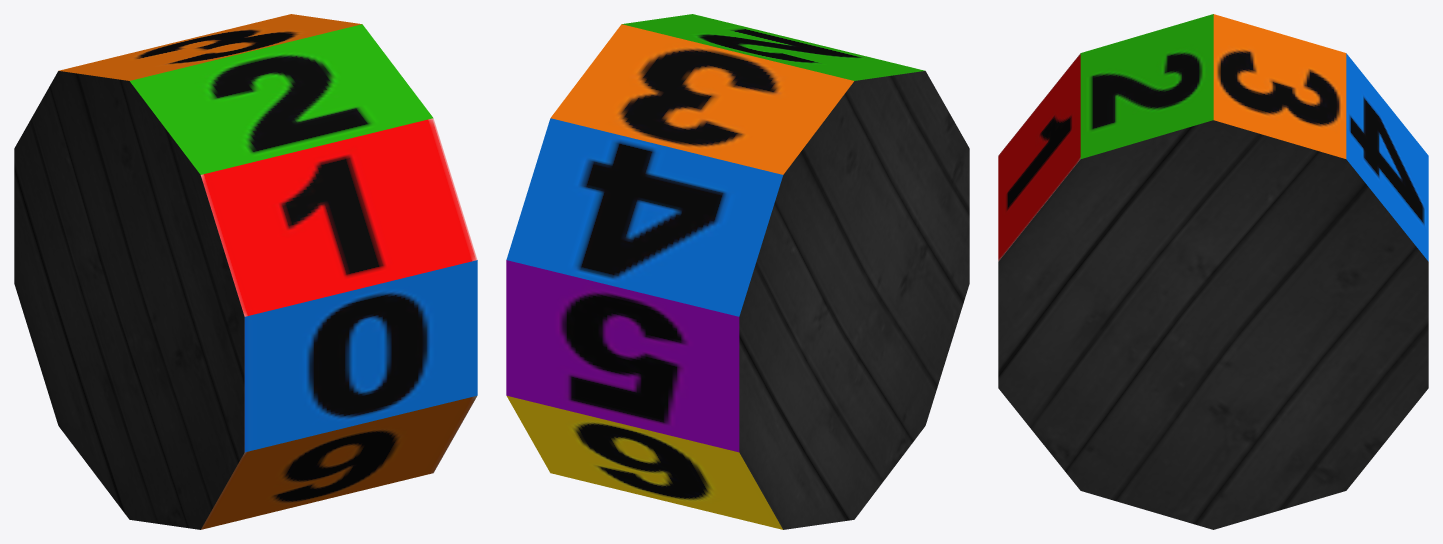
File: numberroll.obj
The picture shows the model from 3 angles, left to right: view 1: azimuth 30°, elevation 25°; view 2: azimuth 150°, elevation 25°; view 3: azimuth 270°, elevation 25°; orthographic projection. The views are drawn at different scales.
Visible parts, largest first — view 1: pCylinder1; view 2: pCylinder1; view 3: pCylinder1.
Part boxes in pixels (x1=…): pCylinder1: x1=14, y1=14, x2=477, y2=529; pCylinder1: x1=506, y1=14, x2=969, y2=529; pCylinder1: x1=998, y1=14, x2=1428, y2=529.
Bounding box in the file's own units: 0.5 × 0.9 × 0.856.
